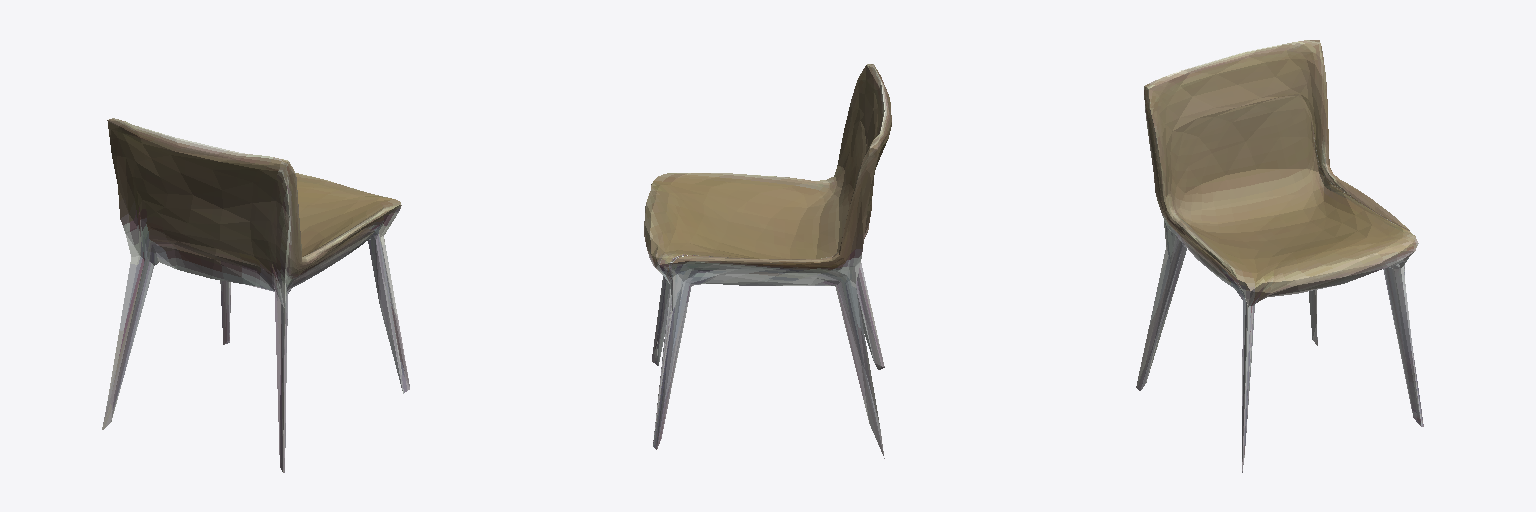
The picture shows the model from 3 angles: view 1: azimuth 30°, elevation 25°; view 2: azimuth 150°, elevation 25°; view 3: azimuth 270°, elevation 25°; orthographic projection.
Bounding box in the file's own units: 0.9088 × 1 × 0.8363.
Materials: 1 (1 with a texture image).